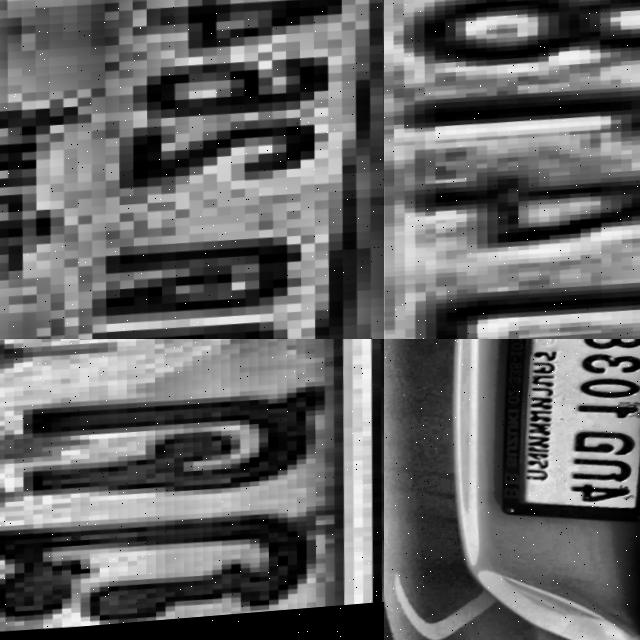license-plate: (0, 0, 384, 339), (0, 339, 384, 640), (384, 0, 640, 339), (486, 339, 640, 536)
